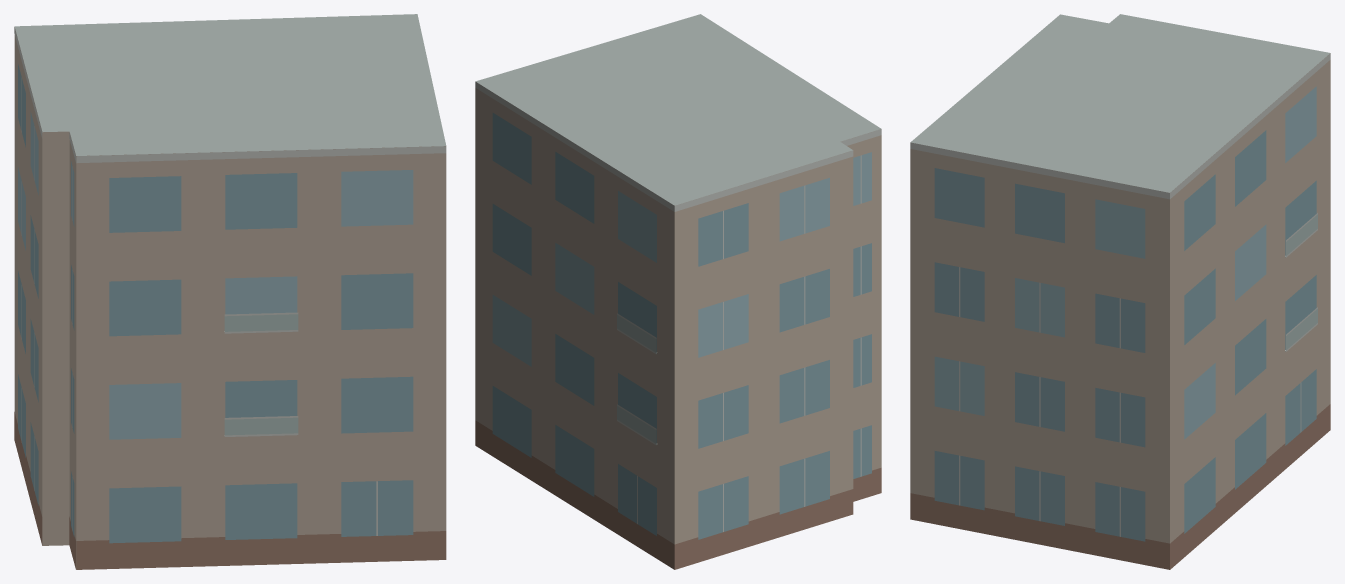
Rendered from survey-upis-33043270.glb.
3 views of the same model, side by side, from view 1: azimuth 30°, elevation 25°; view 2: azimuth 150°, elevation 25°; view 3: azimuth 270°, elevation 25° (orthographic). The views are drawn at different scales.
Visible parts, largest first — view 1: survey-upis-33043270.tmp; view 2: survey-upis-33043270.tmp; view 3: survey-upis-33043270.tmp.
Part boxes in pixels (x1,y1,x2,y2): survey-upis-33043270.tmp: (14, 14, 446, 569); survey-upis-33043270.tmp: (475, 14, 881, 569); survey-upis-33043270.tmp: (910, 14, 1330, 569).
Bounding box in the file's own units: 14.46 × 14.2 × 14.36.
